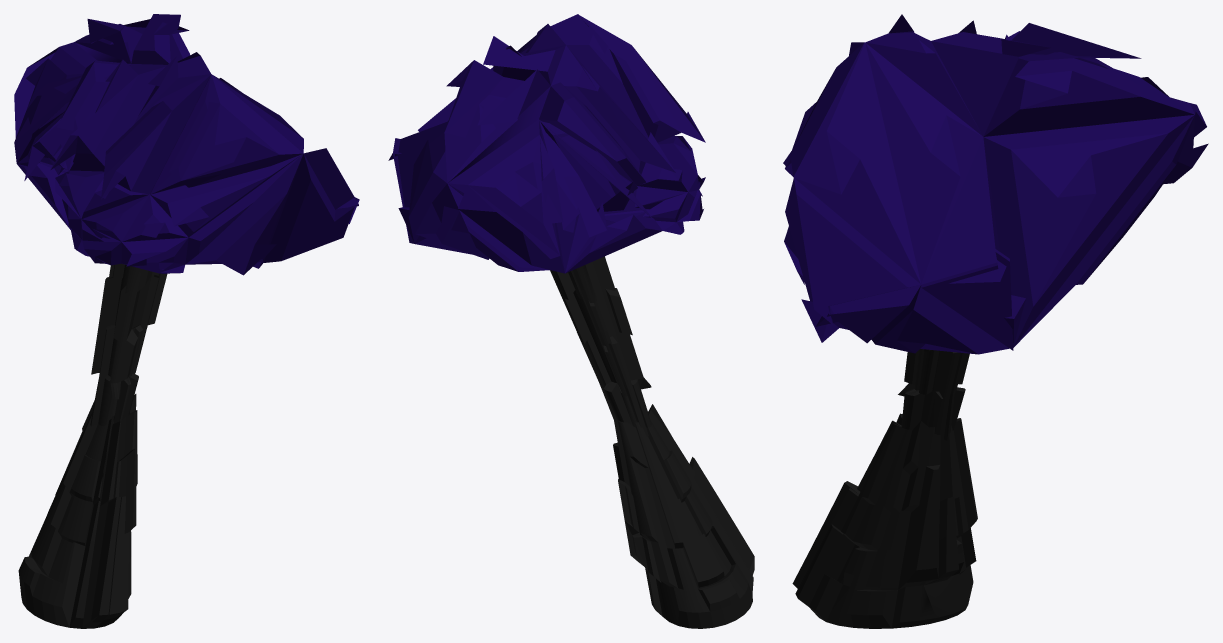
File: tree number2.FBX
The picture shows the model from 3 angles, left to right: view 1: azimuth 30°, elevation 25°; view 2: azimuth 150°, elevation 25°; view 3: azimuth 270°, elevation 25°; orthographic projection. The views are drawn at different scales.
Parts seen in each view (by area): view 1: BlobMesh001; view 2: BlobMesh001; view 3: BlobMesh001.
Boxes of the visible parts, x1=… form: BlobMesh001: x1=14, y1=14, x2=359, y2=628; BlobMesh001: x1=388, y1=14, x2=754, y2=628; BlobMesh001: x1=783, y1=14, x2=1208, y2=628.
Bounding box in the file's own units: 34.02 × 56.51 × 32.65.
